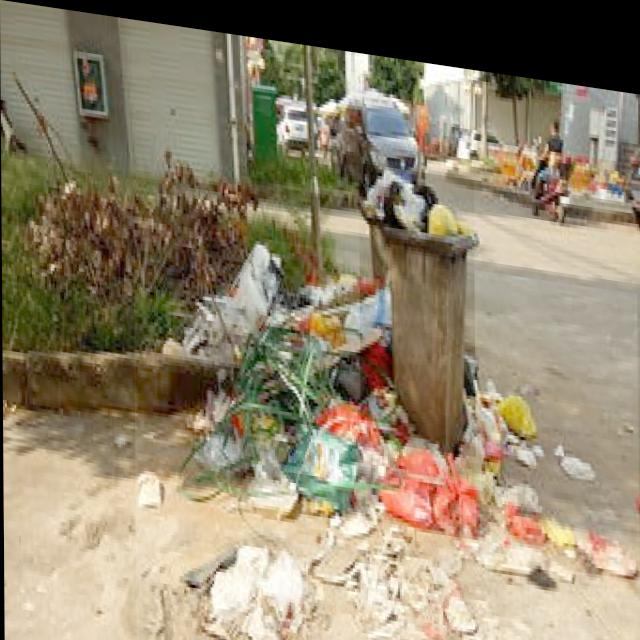garbage: (133, 216, 640, 640)
overflow: (359, 152, 475, 442)
